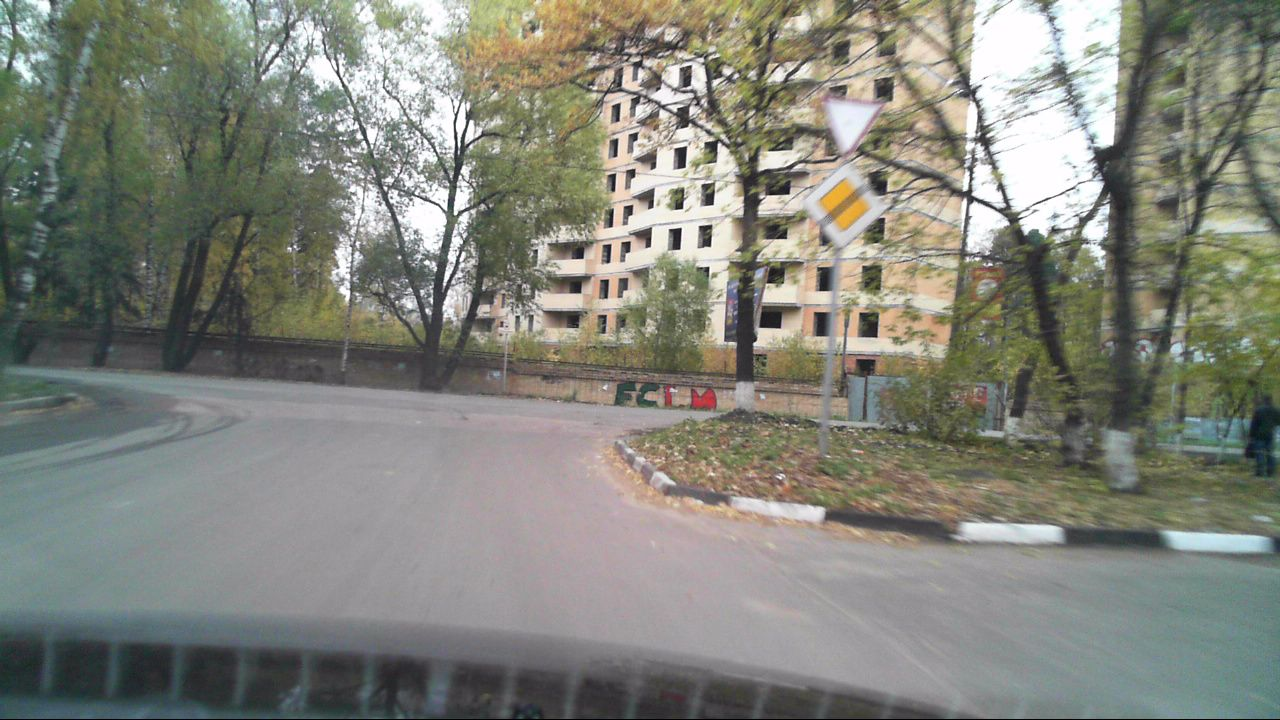main road: (806, 165, 882, 245)
